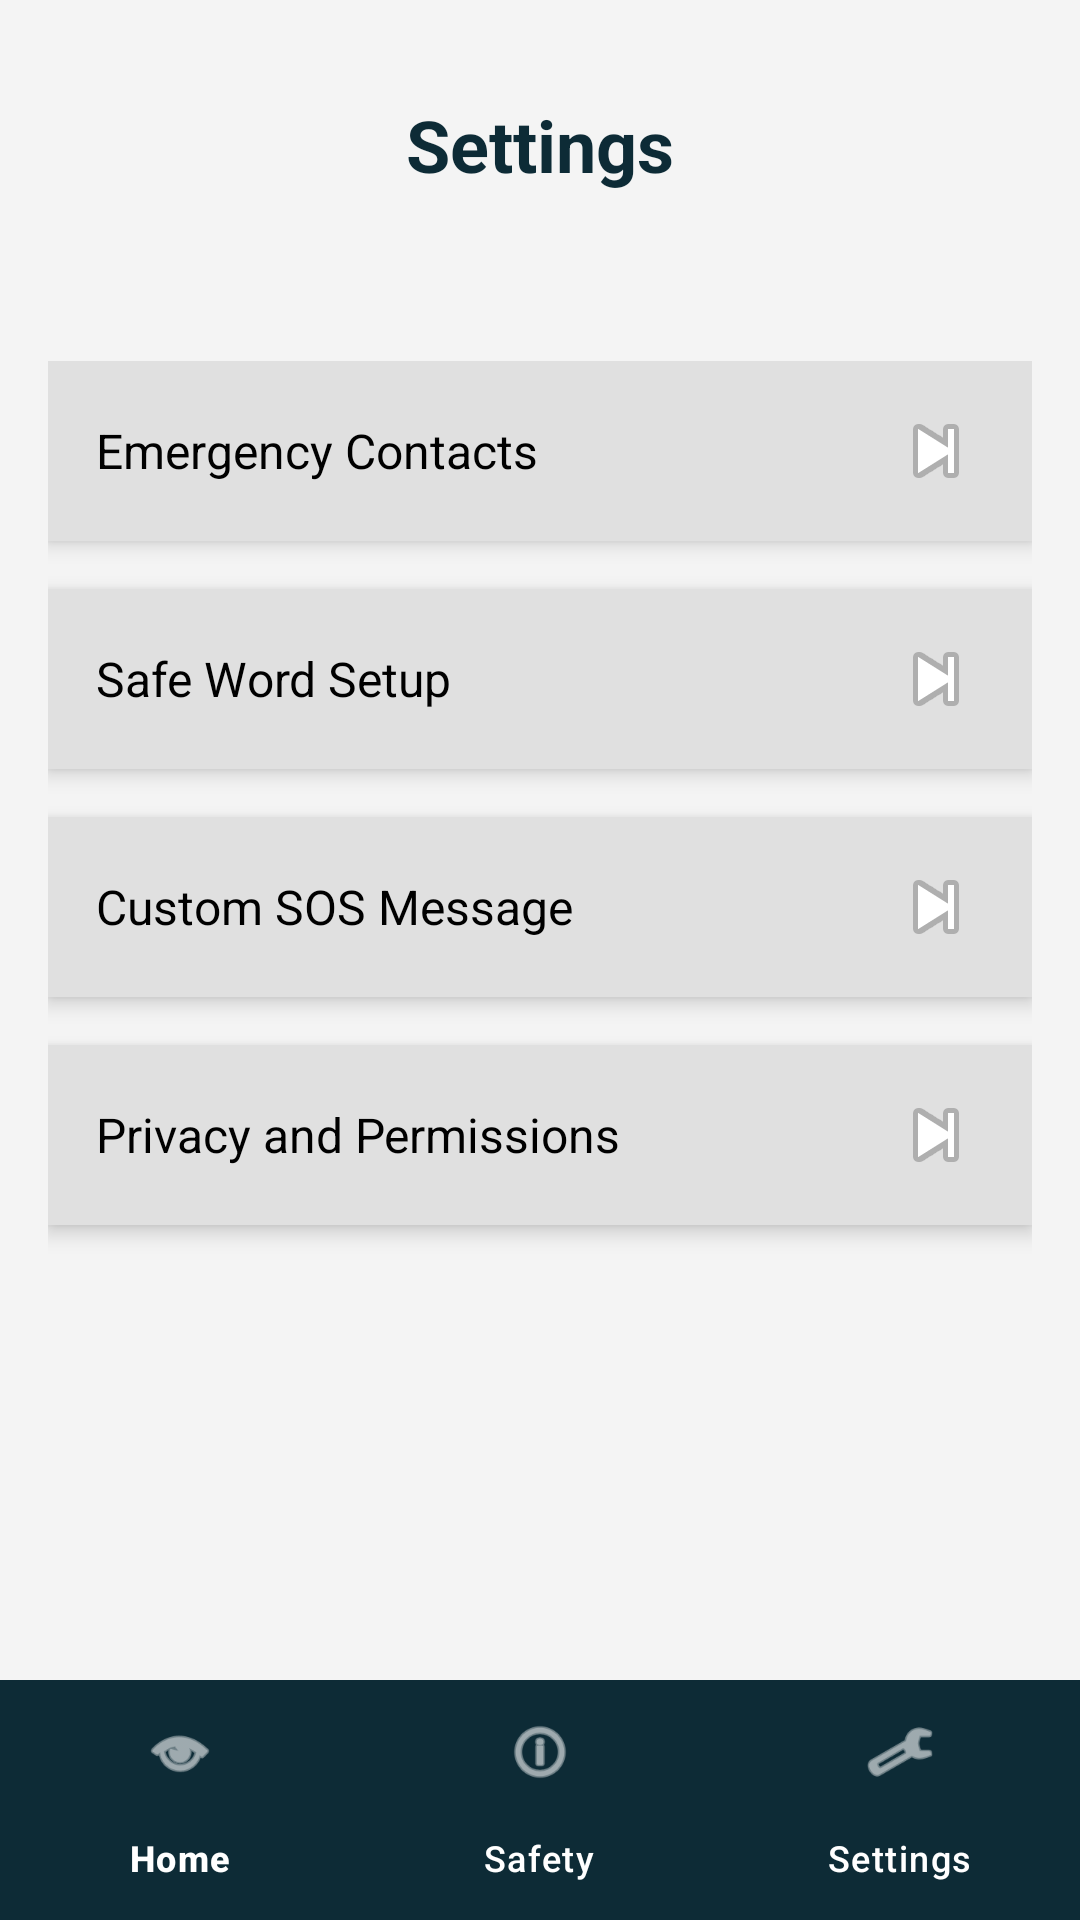

Where to tap for icons on this 1080 × 1920 app screen, as (x,y):
next: (936,451), (936,679), (936,907), (936,1135)
